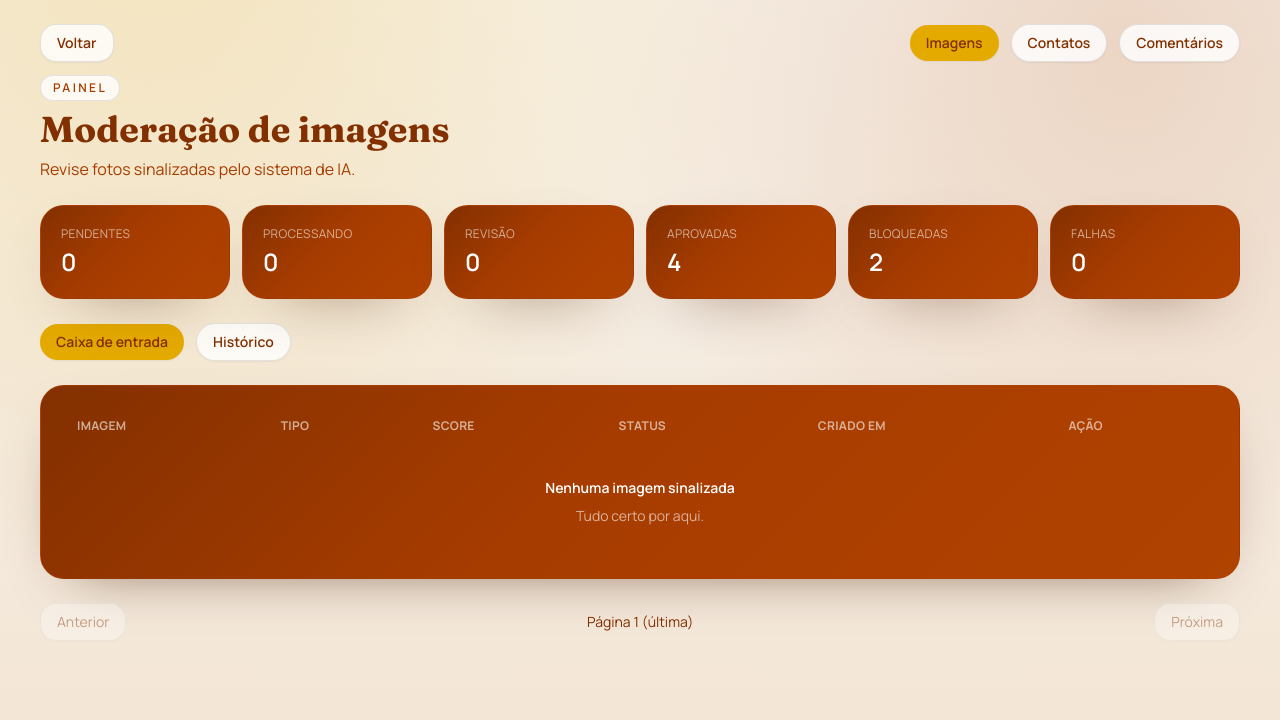
Test case: ModerationImagesPage › loads history with status filter
Click the button "Histórico" at (243, 342), box [196,323,291,361]
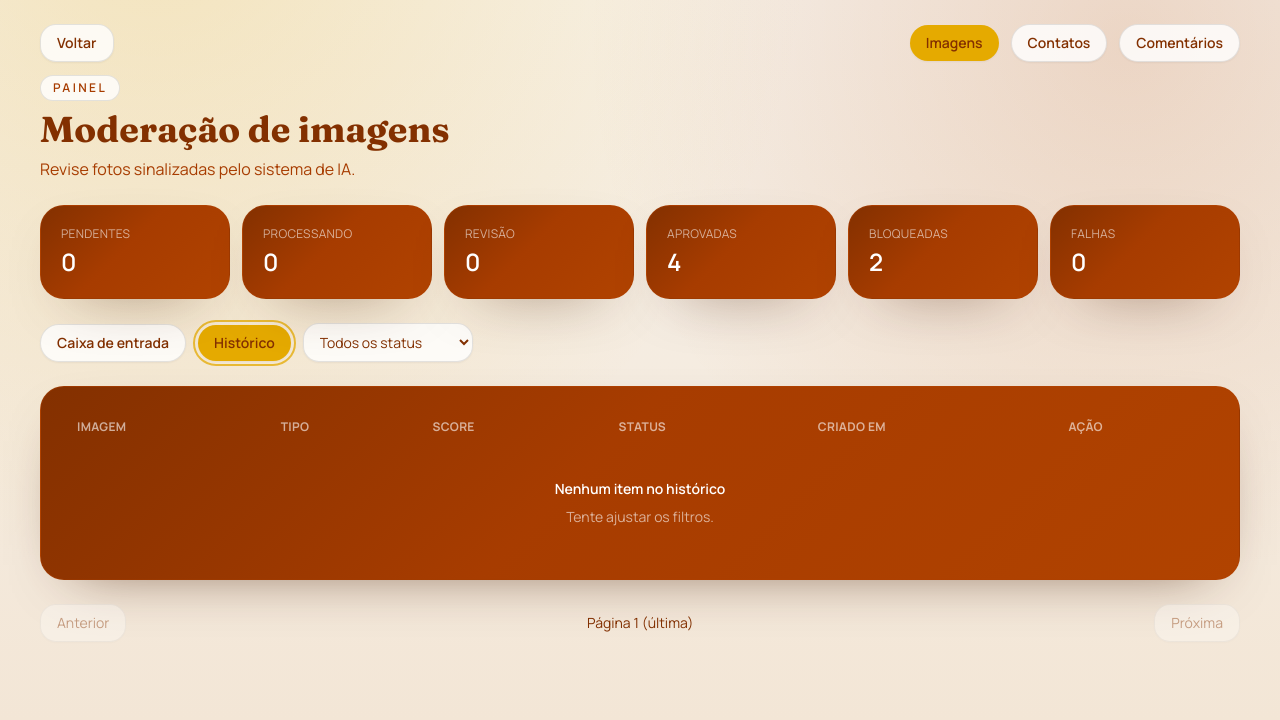
Select "Bloqueado" in the dropdown at (388, 342), box [303,323,473,362]
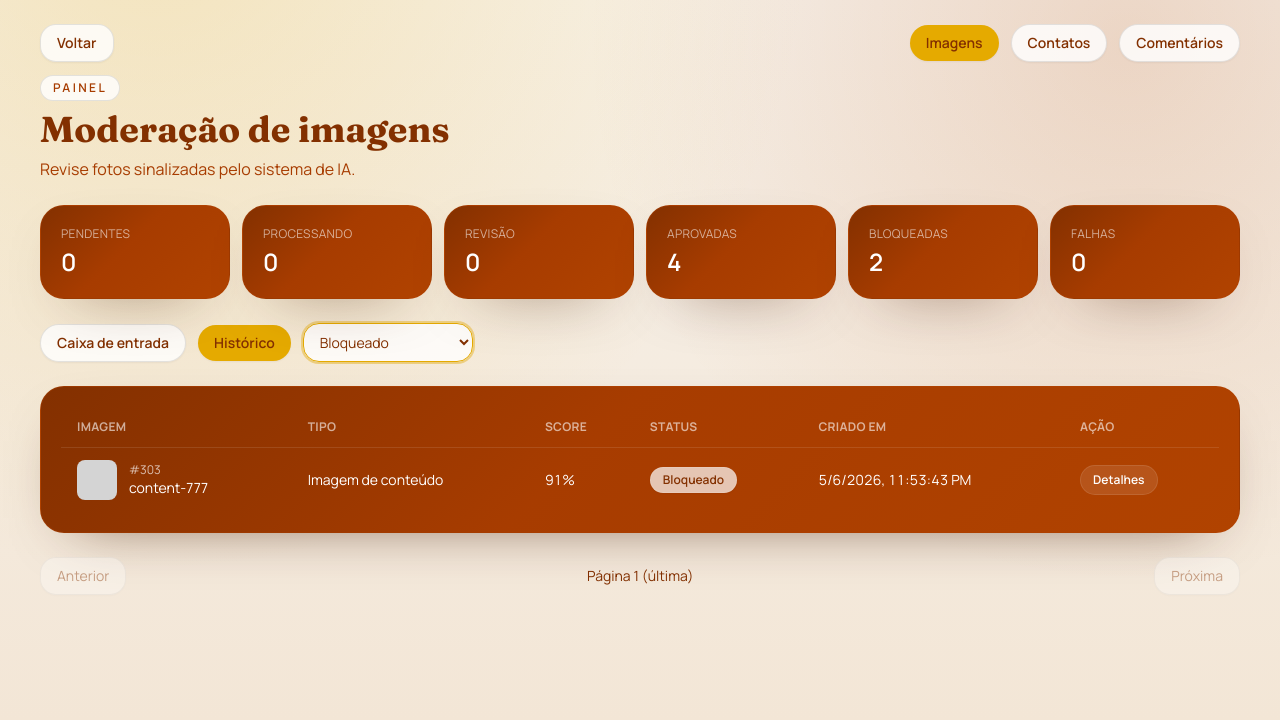
Expected: the text "content-777" is shown, [129,478,208,498]
